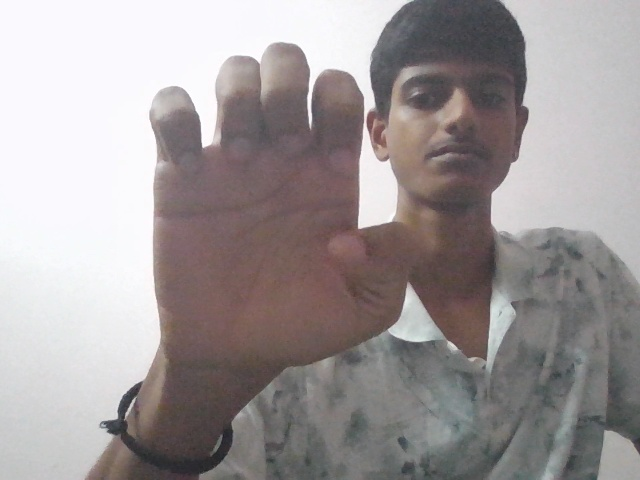yes: (135, 31, 412, 411)
